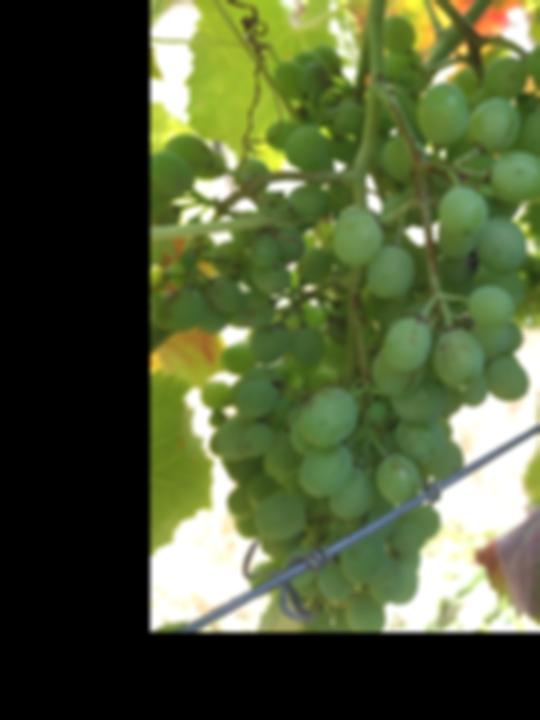grape: (156, 16, 540, 629)
